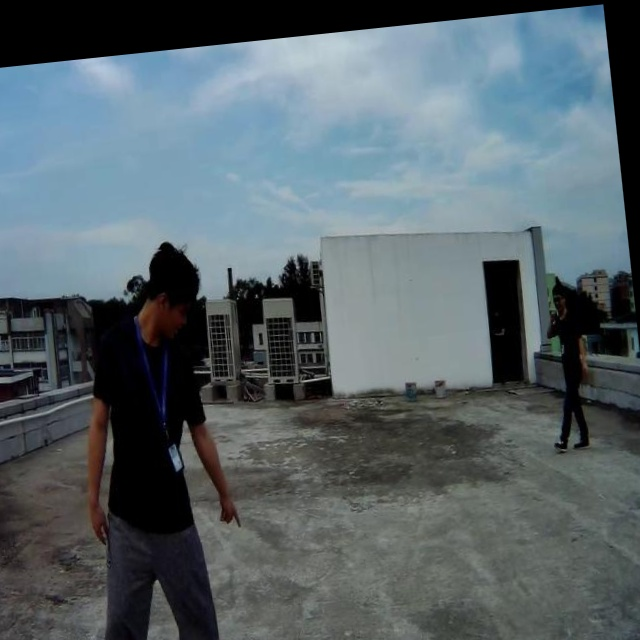Sin_Casco_Mascarrilla: (140, 237, 209, 338)
